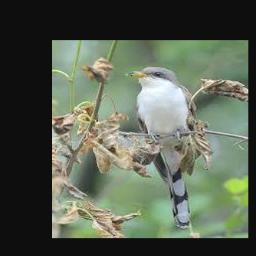Cuckoo: (125, 66, 195, 229)
